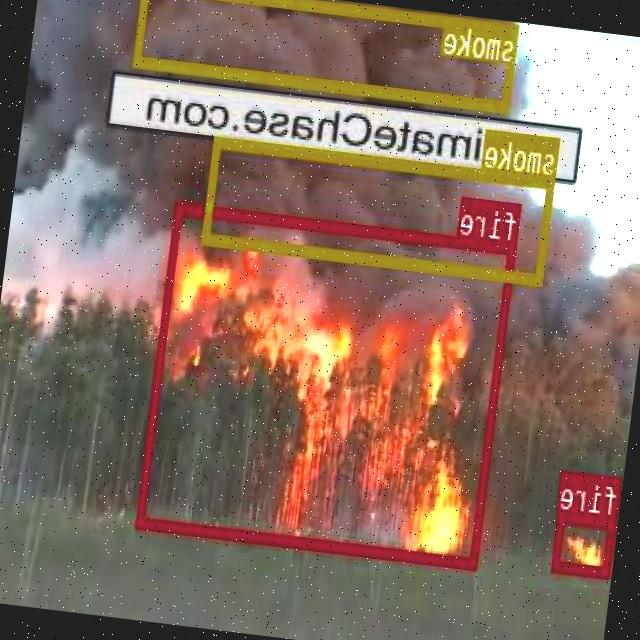fire: (138, 201, 516, 568), (553, 509, 618, 576)
smoke: (203, 136, 556, 284), (134, 0, 520, 110)
